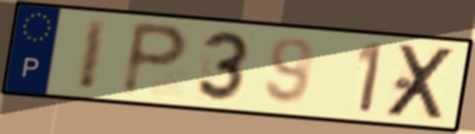1: (354, 40, 385, 117)
3: (196, 28, 251, 103)
9: (263, 36, 318, 107)
I: (74, 17, 111, 93)
P: (117, 18, 193, 99)
X: (381, 42, 460, 122)
